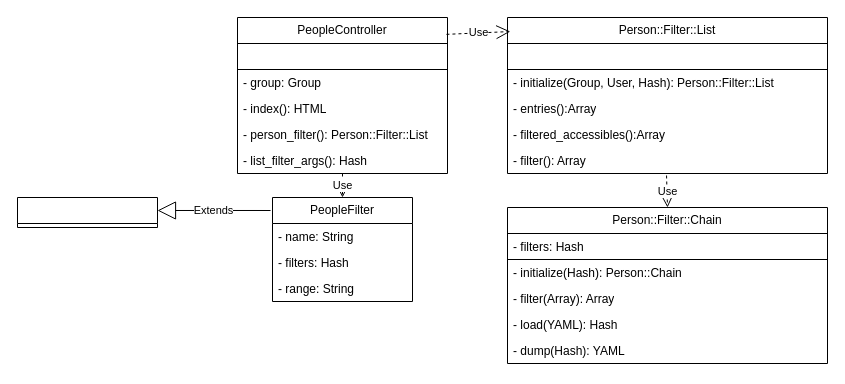
Some shapes in this 845 by 384 pixel diagram are drawn without their labels. Here are the shapes that lost their labels. From the top down, the centre of each, then its label:
At point (342, 56): "- person_filter: Person::Filter::List".
At point (667, 56): "- chain: Person::Filter::Chain".
At point (87, 212): "ActiveRecord::Base".
